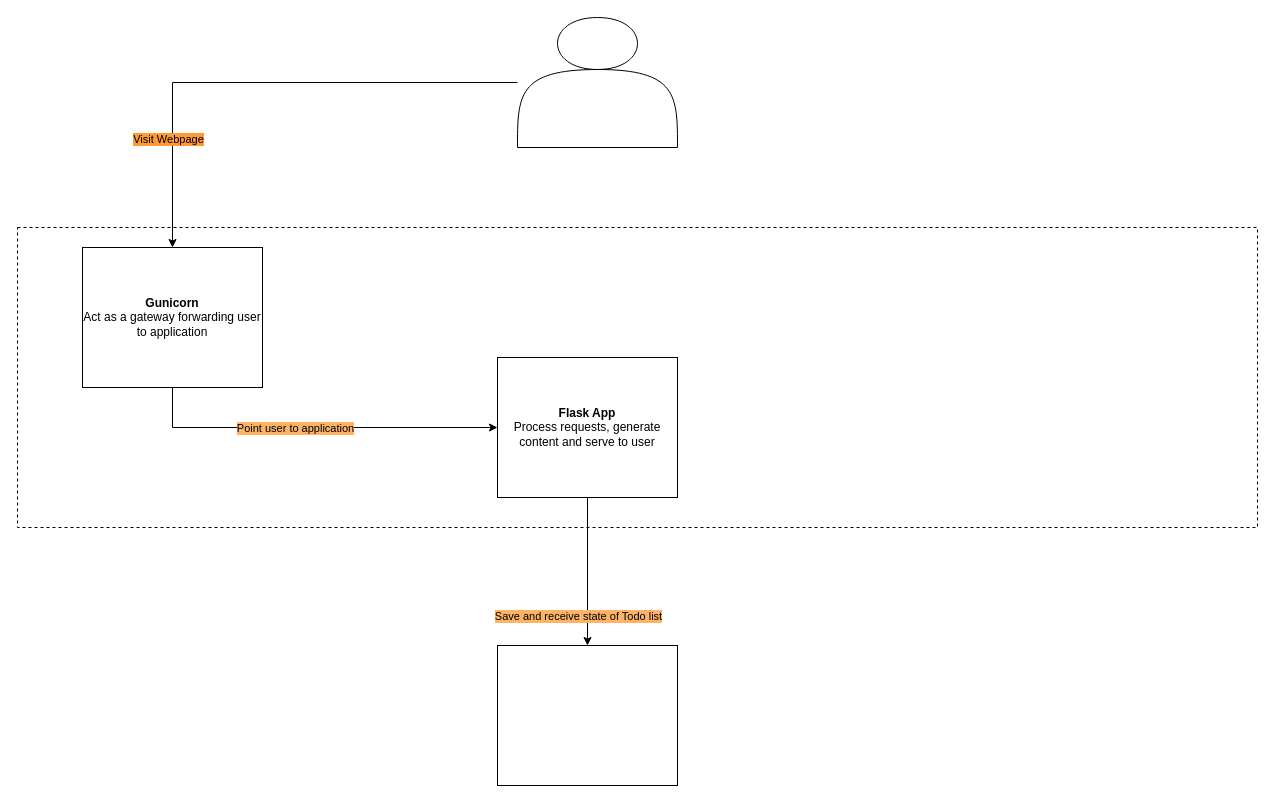
Some shapes in this 1275 by 803 pixel diagram are drawn without their labels. Each missing label, with the centre of its shape:
"MongoDB Store all the Todo Tasks and their current state" belongs at pixel 587 715.
"User" belongs at pixel 597 82.
